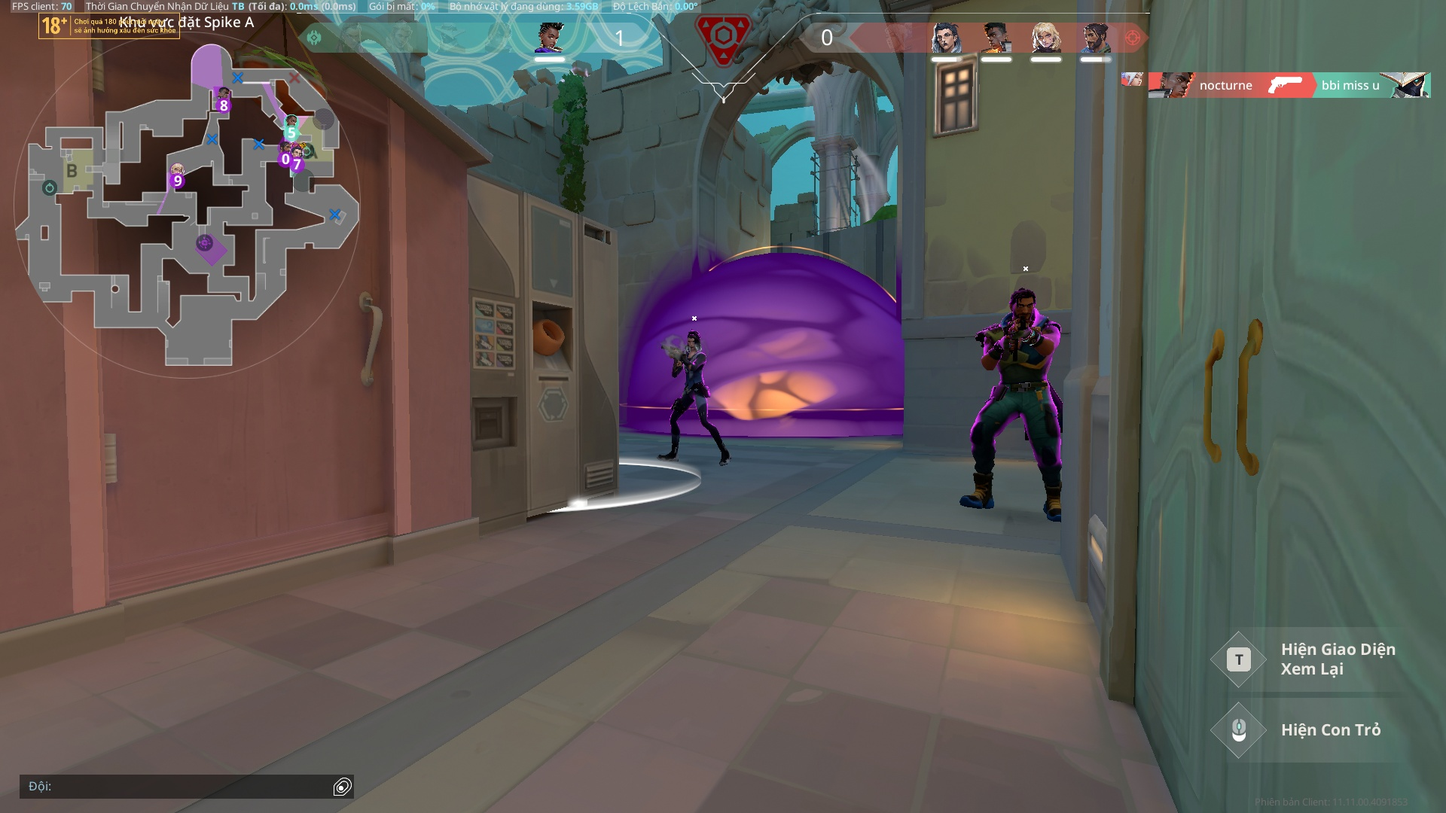body: (987, 315, 1063, 391), (679, 346, 711, 393)
head: (1010, 283, 1039, 322), (685, 330, 700, 349)
